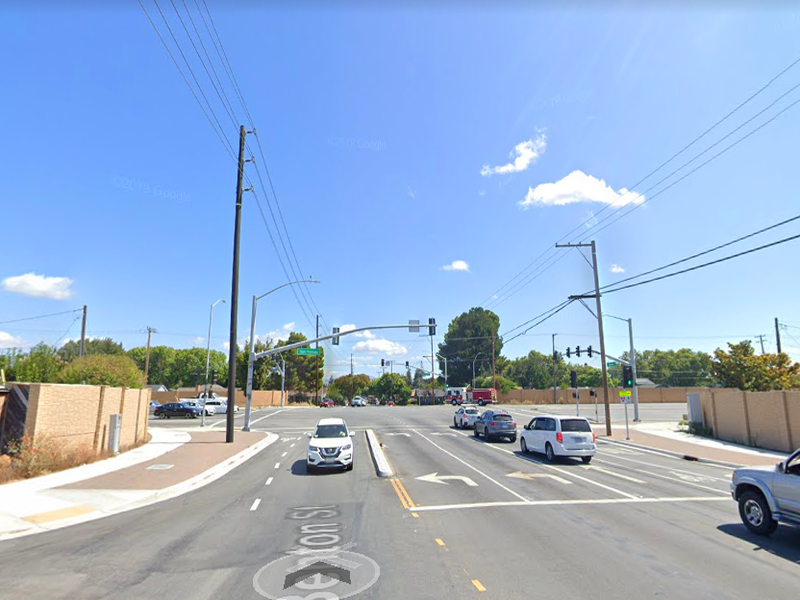utility_pole: (218, 112, 267, 204), (545, 228, 606, 276)
